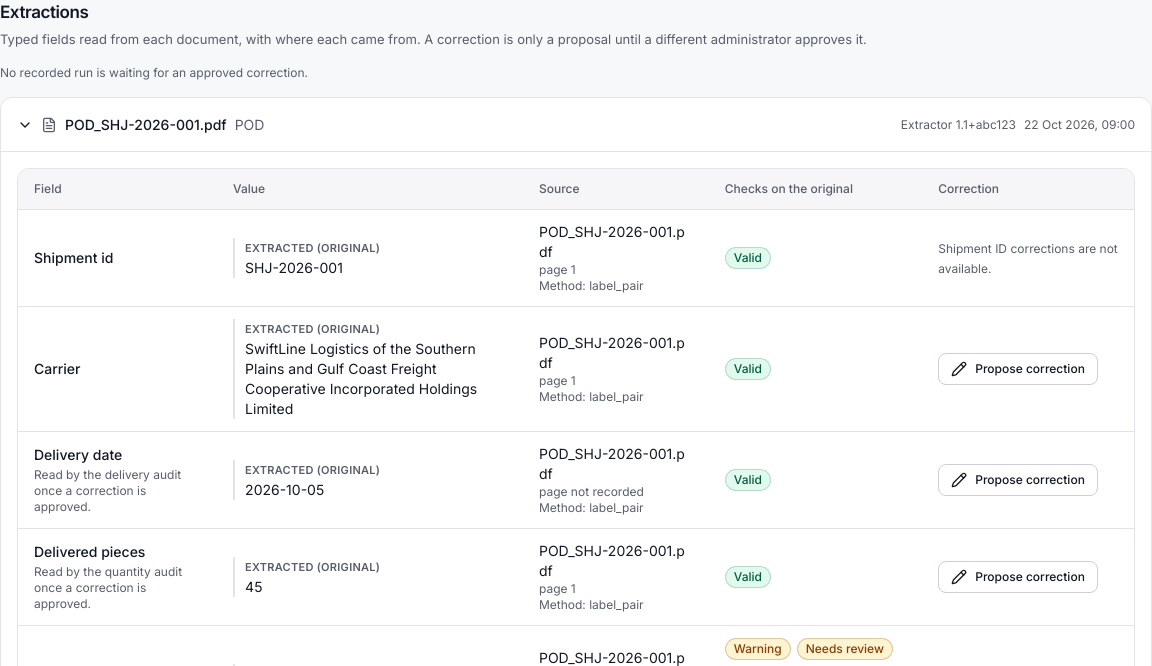
proposing a correction › sends null as the version when the field has never been corrected
Check: the text "Delivered pieces" is shown, box top-left (34, 542), bottom-right (145, 560)
Click the button with aria-label "Propose a correction for Delivered pieces": {"x": 1018, "y": 576} top-left (938, 560), bottom-right (1098, 592)
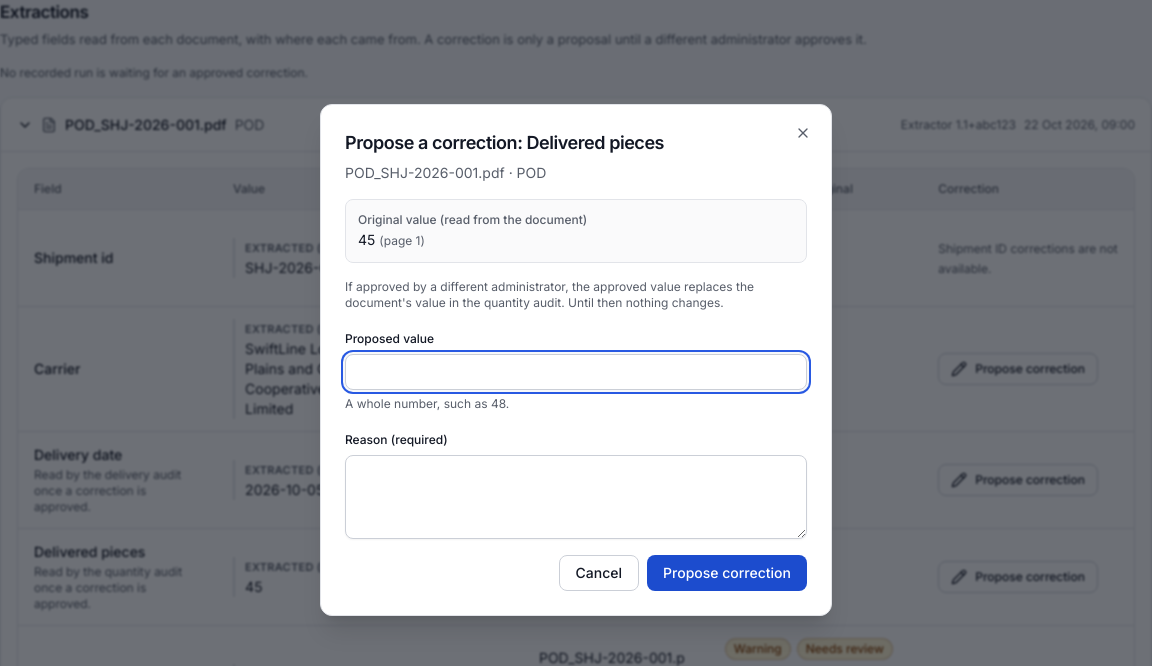
In the field labelled "Proposed value": {"x": 576, "y": 372} top-left (345, 354), bottom-right (807, 390), type "48"
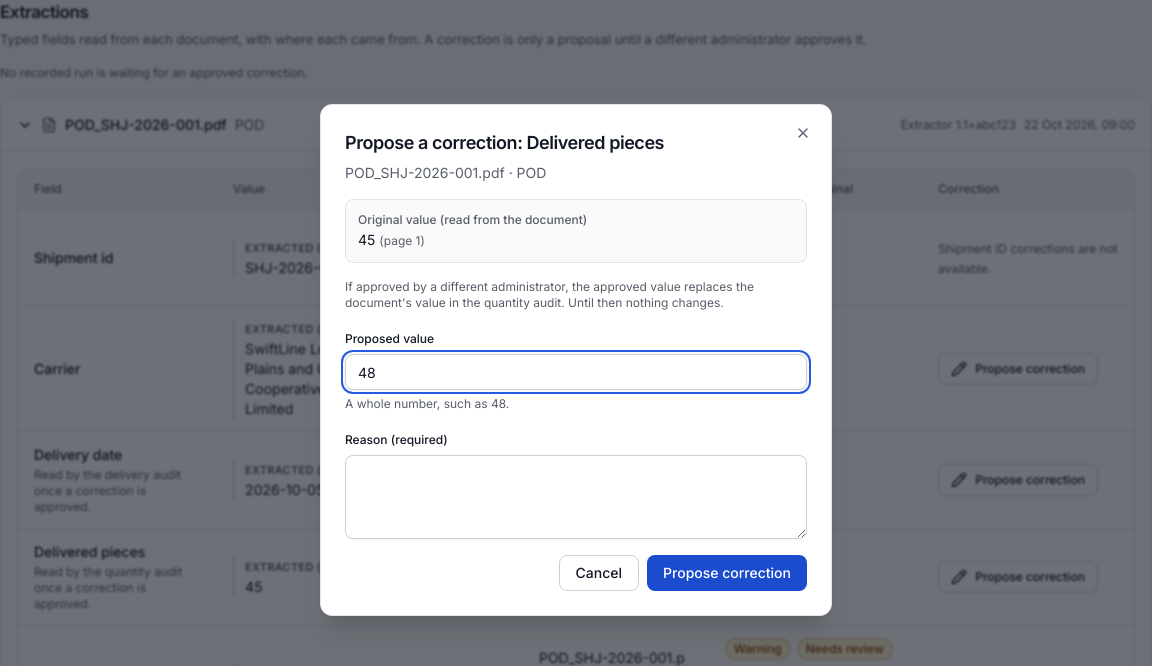
In the text box labelled "Reason (required)": {"x": 576, "y": 497} top-left (345, 455), bottom-right (807, 539), type "The paper POD shows 48 pieces."
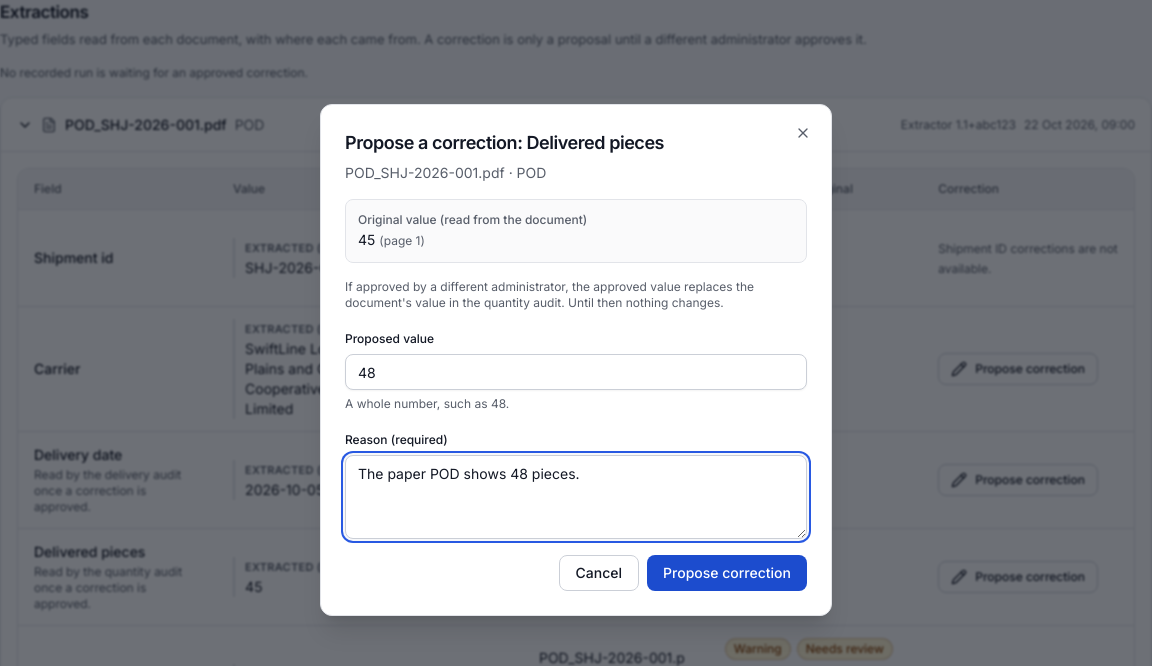
Click the button "Propose correction": {"x": 727, "y": 573} top-left (647, 555), bottom-right (807, 591)
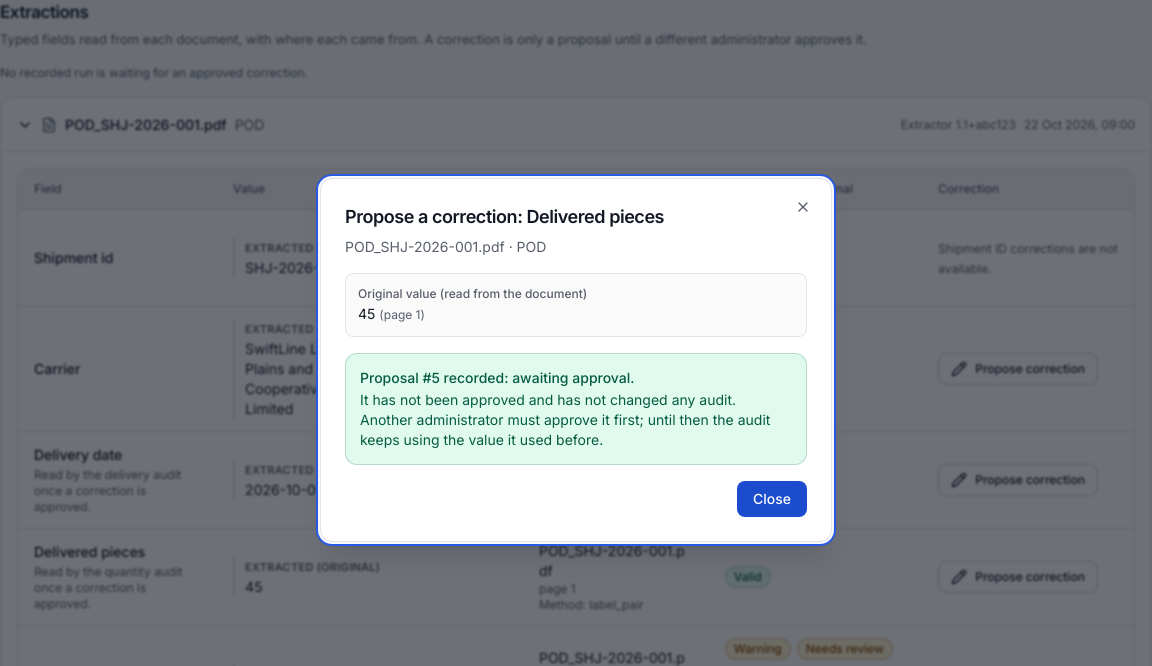
Check: the text "Proposal #5 recorded: awaiting approval." is shown, box top-left (360, 369), bottom-right (635, 386)
